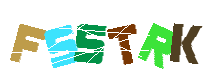F: (8, 0, 88, 80)
K: (118, 0, 198, 80)
R: (117, 0, 197, 80)
S: (22, 0, 102, 80), (49, 0, 129, 80)
T: (64, 0, 144, 80)
